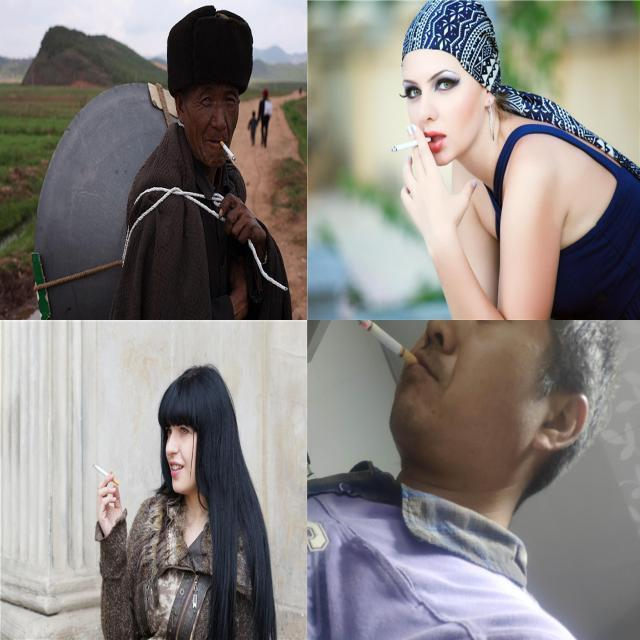rokok: (357, 320, 419, 368), (92, 459, 120, 488), (391, 136, 433, 154), (219, 139, 237, 161)
